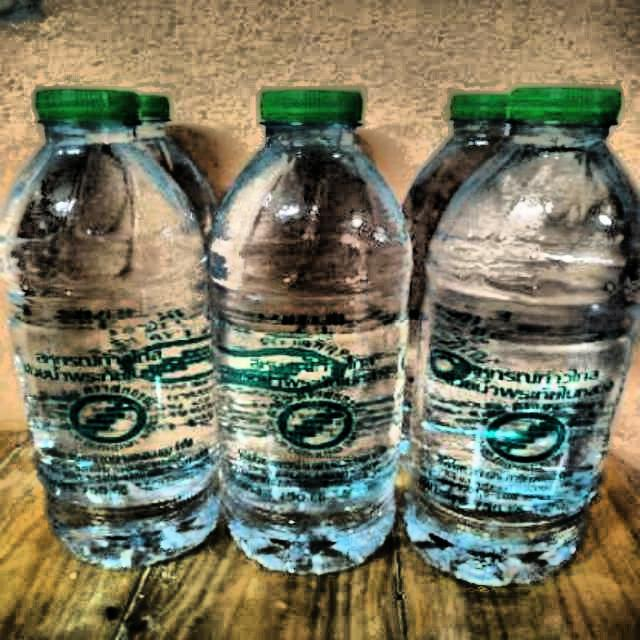Bottles: (417, 86, 640, 588), (0, 85, 226, 572), (193, 80, 409, 584)
